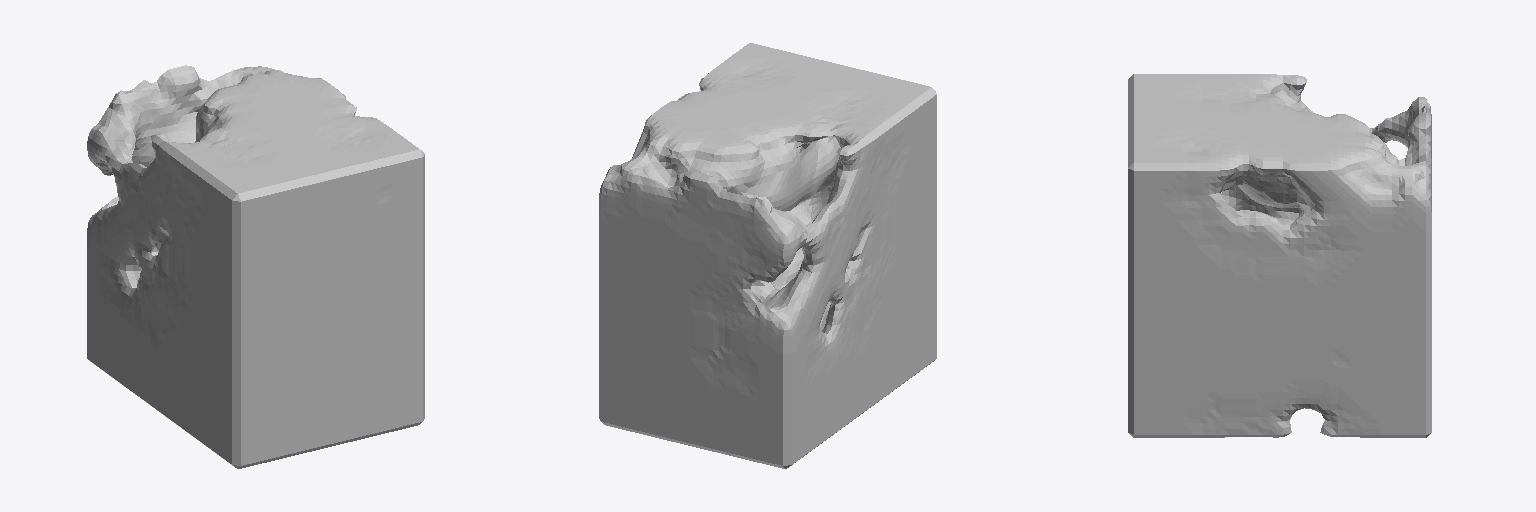
3 renders of one model, left to right at view 1: azimuth 30°, elevation 25°; view 2: azimuth 150°, elevation 25°; view 3: azimuth 270°, elevation 25°, orthographic.
Visible parts, largest first — view 1: Liquid_Domain; view 2: Liquid_Domain; view 3: Liquid_Domain.
Boxes of the visible parts, x1=… form: Liquid_Domain: x1=87, y1=65, x2=424, y2=468; Liquid_Domain: x1=599, y1=43, x2=936, y2=468; Liquid_Domain: x1=1128, y1=74, x2=1431, y2=437.
Bounding box in the file's own units: 79.09 × 108 × 108.